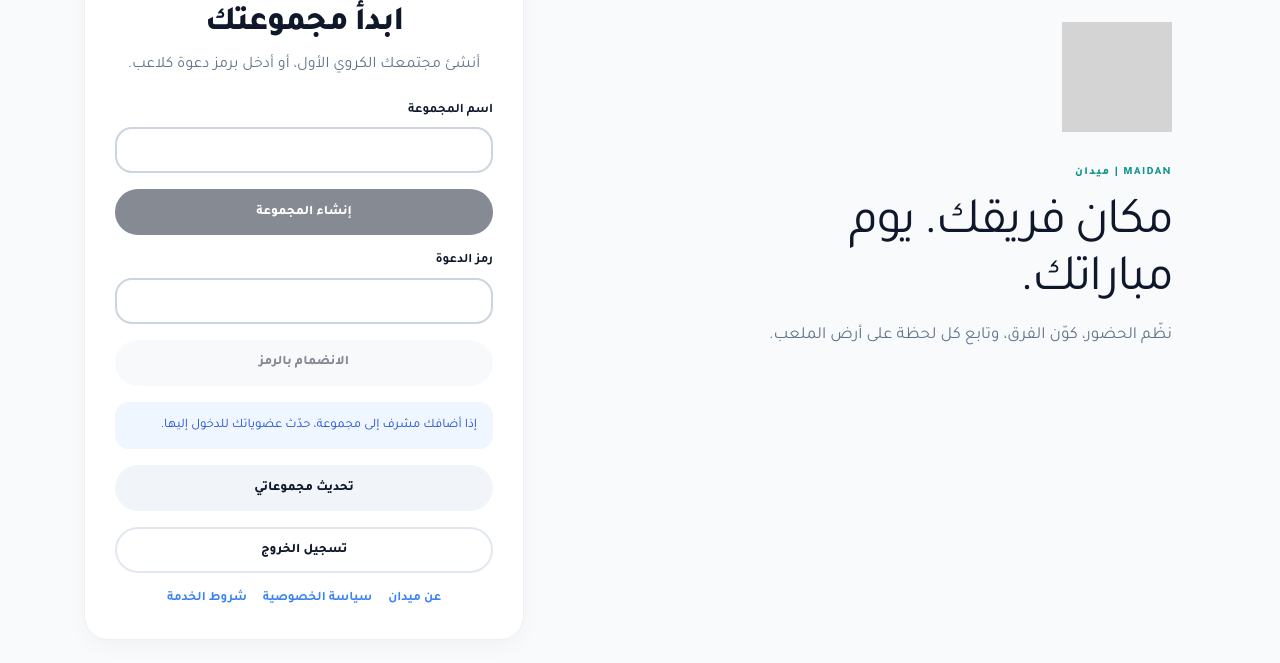
lets an existing account enter a group after admin membership is refreshed
(page scrolled)
Expected: the heading "ابدأ مجموعتك" is shown, [205,7,403,41]
Step 1. Click the button "تحديث مجموعاتي" → x=304, y=488, box [115,465,493,511]
(page scrolled)
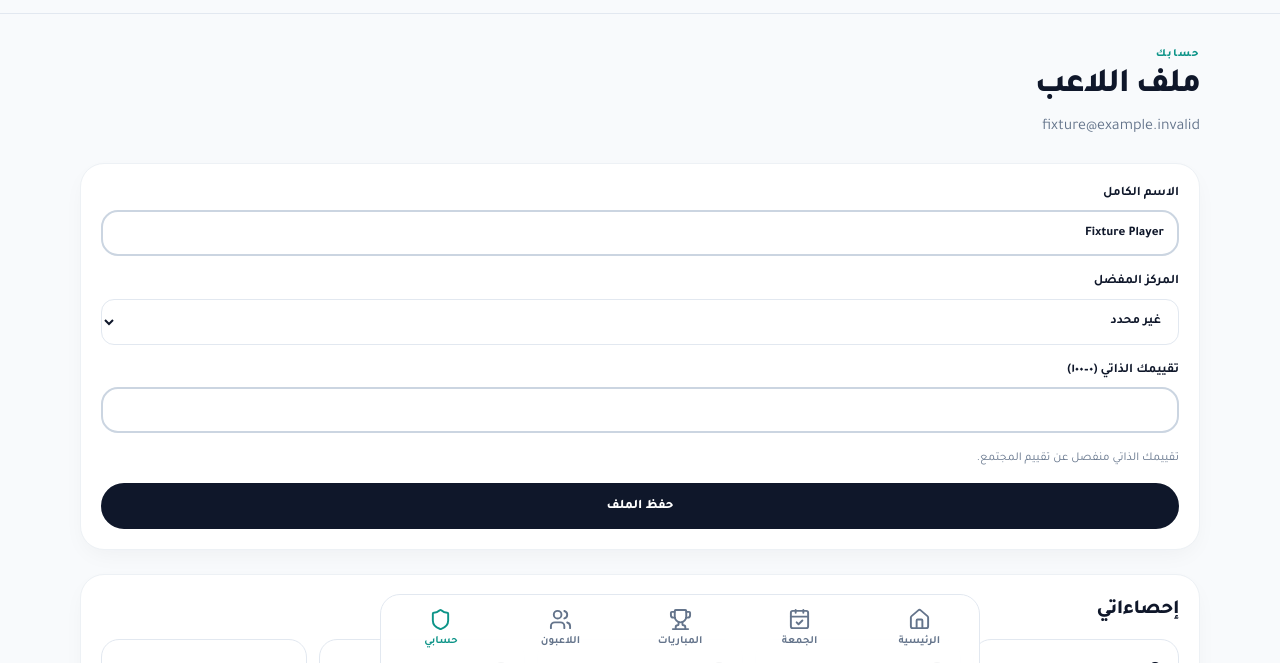
Result: the heading "ملف اللاعب" is shown at [1035,69,1200,103]
